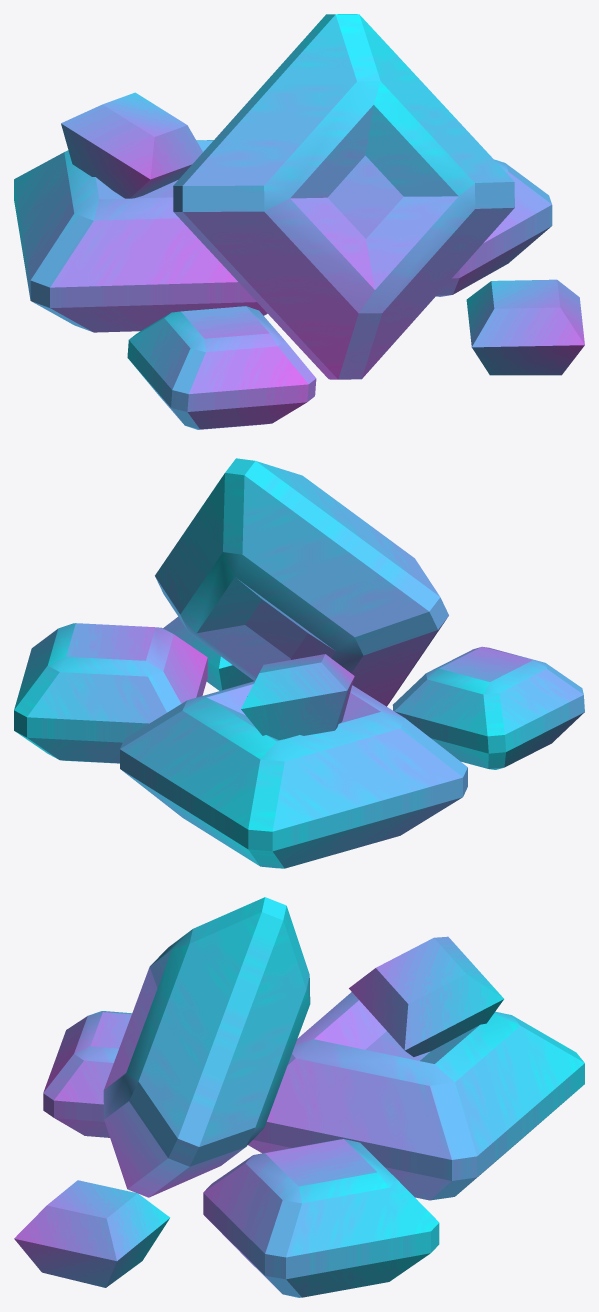
File: Gems_Pile_Small.gltf
The picture shows the model from 3 angles, top to bottom: view 1: azimuth 30°, elevation 25°; view 2: azimuth 150°, elevation 25°; view 3: azimuth 270°, elevation 25°; orthographic projection. The views are drawn at different scales.
Parts seen in each view (by area): view 1: Gems_Pile_Small; view 2: Gems_Pile_Small; view 3: Gems_Pile_Small.
Part boxes in pixels (x1,y1,x2,y2): Gems_Pile_Small: (14,14,584,429); Gems_Pile_Small: (14,458,584,868); Gems_Pile_Small: (14,897,584,1297).
Size of the model in its own units: 1.05 by 0.6485 by 1.05.
Materials: 1 (1 with a texture image).
